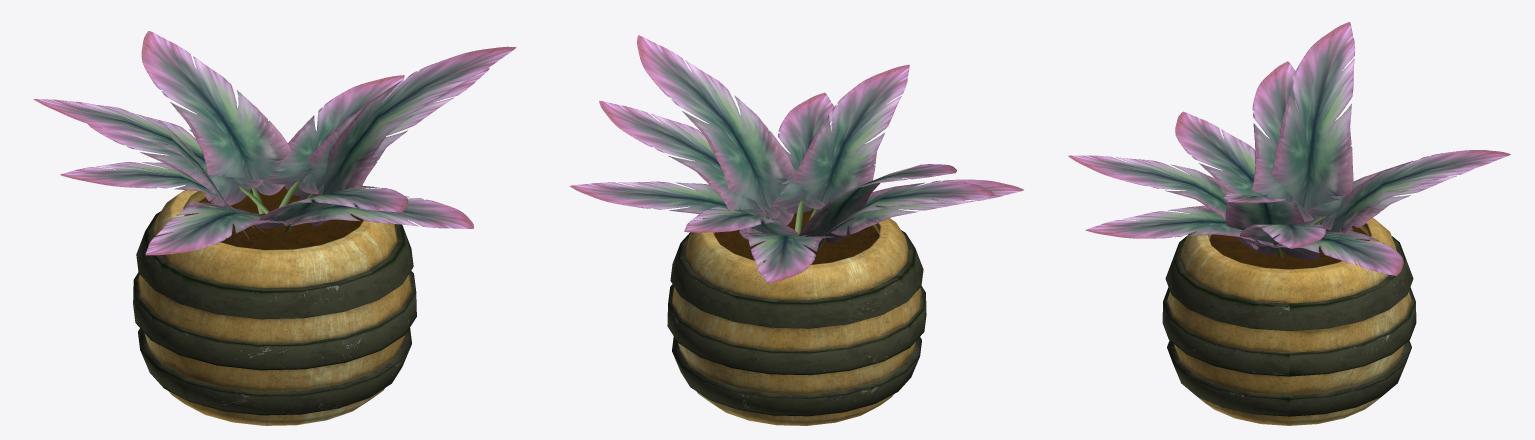
Rendered from Planter(short).fbx.
3 views of the same model, side by side, from view 1: azimuth 30°, elevation 25°; view 2: azimuth 150°, elevation 25°; view 3: azimuth 270°, elevation 25° (orthographic). The views are drawn at different scales.
Visible parts, largest first — view 1: barrel_low, Barrel_leaves; view 2: barrel_low, Barrel_leaves; view 3: barrel_low, Barrel_leaves.
Part boxes in pixels (x1,y1,x2,y2): barrel_low: (133,186,416,425); Barrel_leaves: (33,31,516,255); barrel_low: (667,209,926,425); Barrel_leaves: (570,35,1023,283); barrel_low: (1162,218,1416,425); Barrel_leaves: (1068,22,1510,275).
Size of the model in its own units: 5.31 by 3.47 by 5.29.
2 materials, 2 textured.
